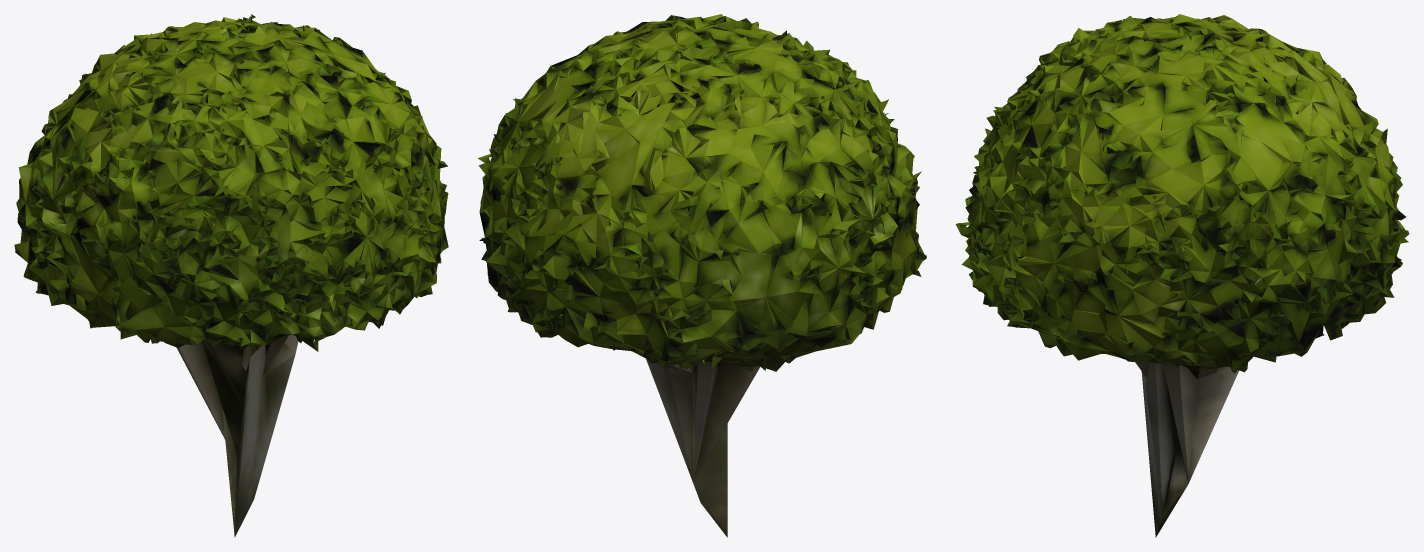
The model's file is TEMP TREE.fbx.
3 views of the same model, side by side, from view 1: azimuth 30°, elevation 25°; view 2: azimuth 150°, elevation 25°; view 3: azimuth 270°, elevation 25° (orthographic). The views are drawn at different scales.
Parts seen in each view (by area): view 1: model; view 2: model; view 3: model.
Part boxes in pixels (left/top/right/bottom): model: left=14, top=14, right=448, bottom=537; model: left=477, top=14, right=926, bottom=537; model: left=955, top=14, right=1409, bottom=537.
Size of the model in its own units: 1.35 by 1.69 by 1.38.
1 material, 1 textured.
